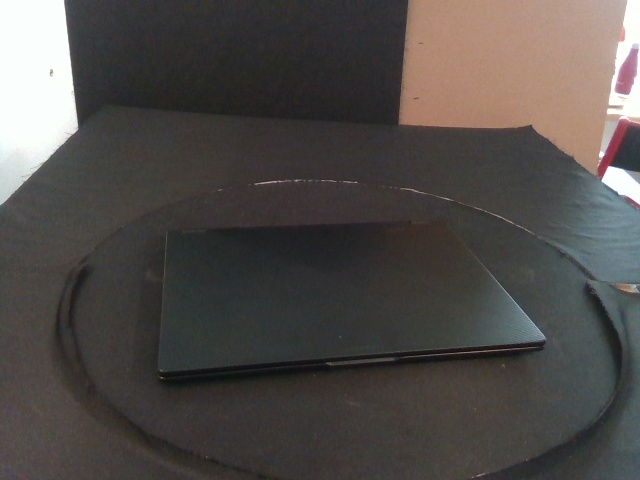laptop: (155, 219, 547, 383)
